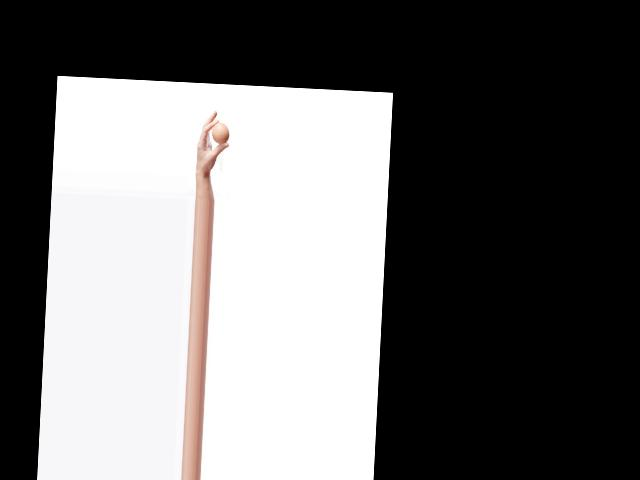egg: (212, 122, 229, 145)
